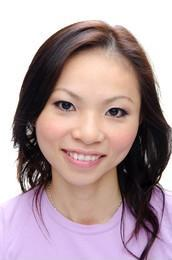face: (36, 64, 136, 184)
